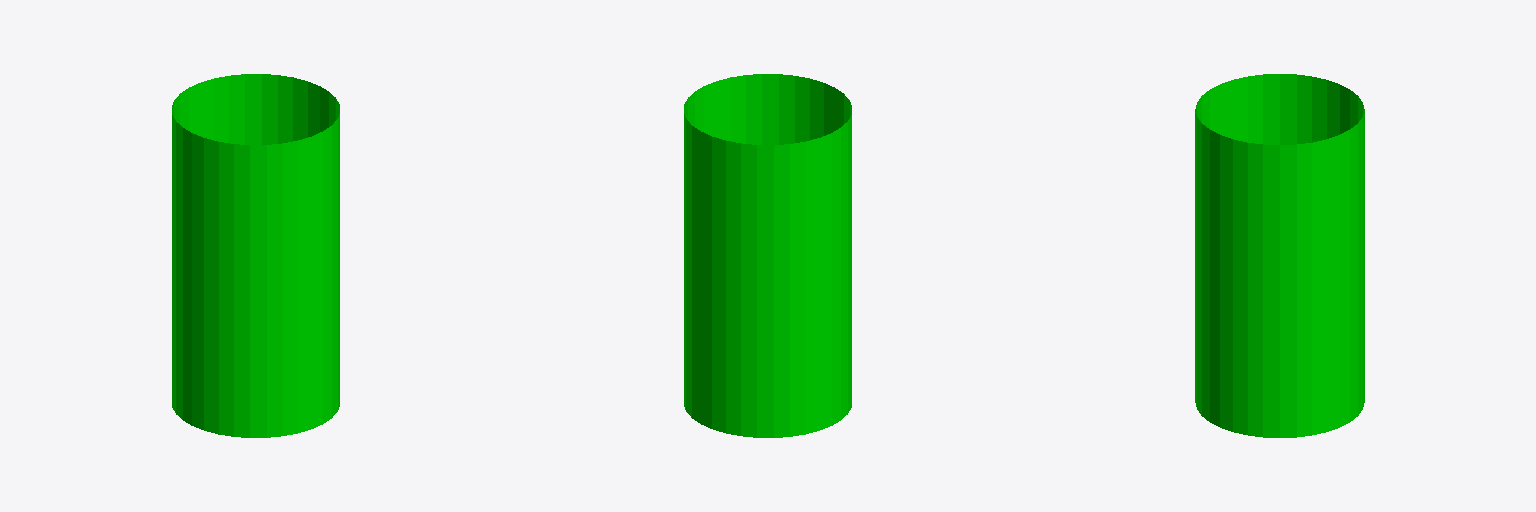
3 renders of one model, left to right at view 1: azimuth 30°, elevation 25°; view 2: azimuth 150°, elevation 25°; view 3: azimuth 270°, elevation 25°, orthographic.
Parts seen in each view (by area): view 1: RSA; view 2: RSA; view 3: RSA.
Part boxes in pixels (left/top/right/bottom): RSA: left=172, top=74, right=339, bottom=437; RSA: left=684, top=74, right=851, bottom=437; RSA: left=1195, top=74, right=1364, bottom=437.
Size of the model in its own units: 1.06 by 2.94 by 1.06.